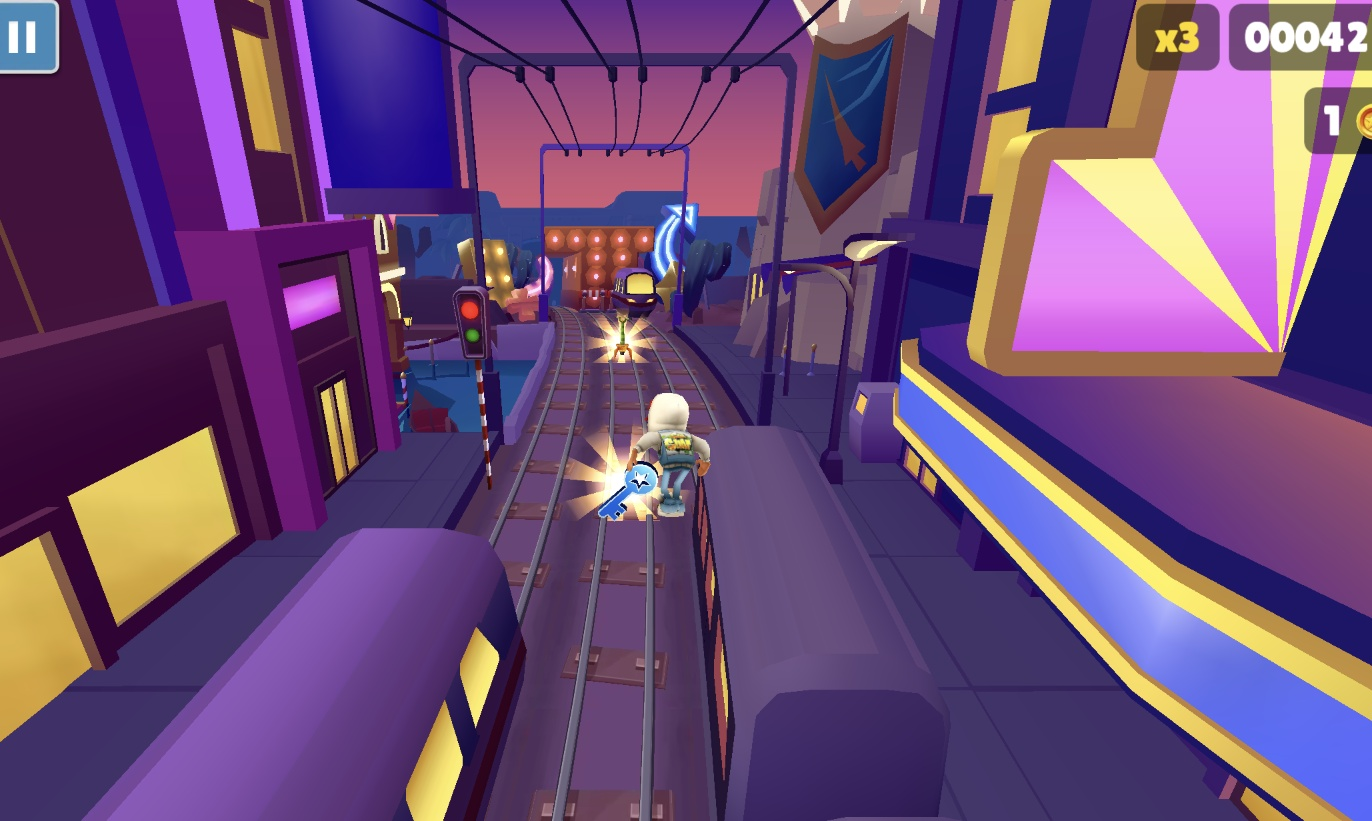ground_barrier: (595, 296, 622, 313)
pillar: (578, 252, 661, 312)
train: (29, 529, 519, 821), (692, 421, 947, 821), (617, 274, 662, 320)
